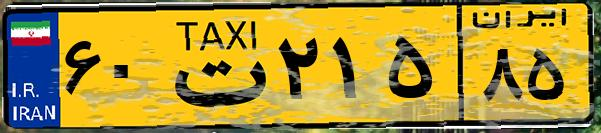0: (110, 28, 158, 98)
1: (330, 28, 385, 110)
2: (270, 28, 330, 110)
5: (385, 28, 445, 110), (525, 38, 570, 115)
6: (57, 26, 110, 100)
8: (475, 38, 525, 113)
ت: (158, 12, 270, 120)
